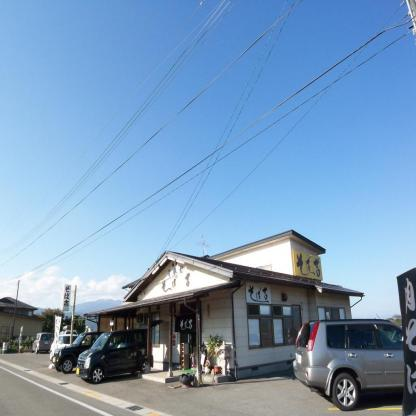Car: (294, 314, 406, 413), (77, 321, 166, 387), (51, 335, 79, 362), (32, 333, 54, 355), (59, 327, 79, 342), (392, 325, 406, 343)
